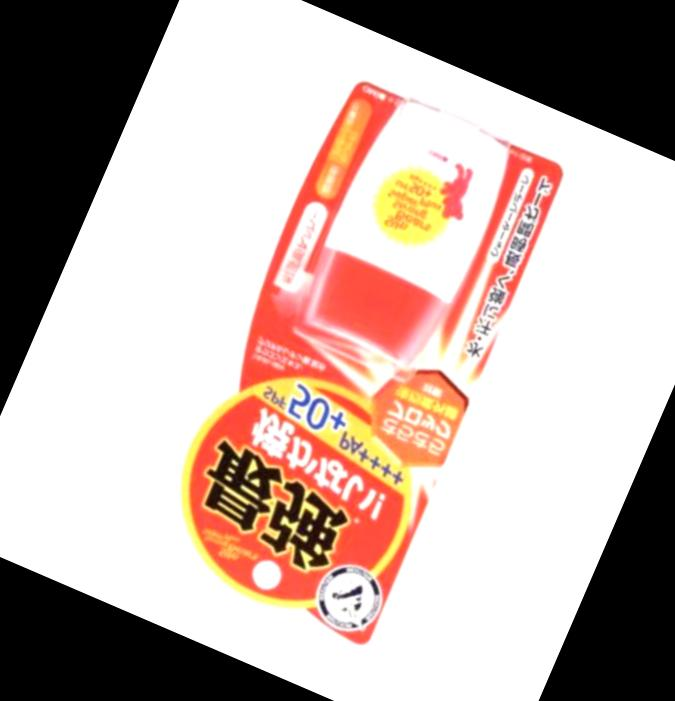cosmetic: (293, 84, 524, 375)
